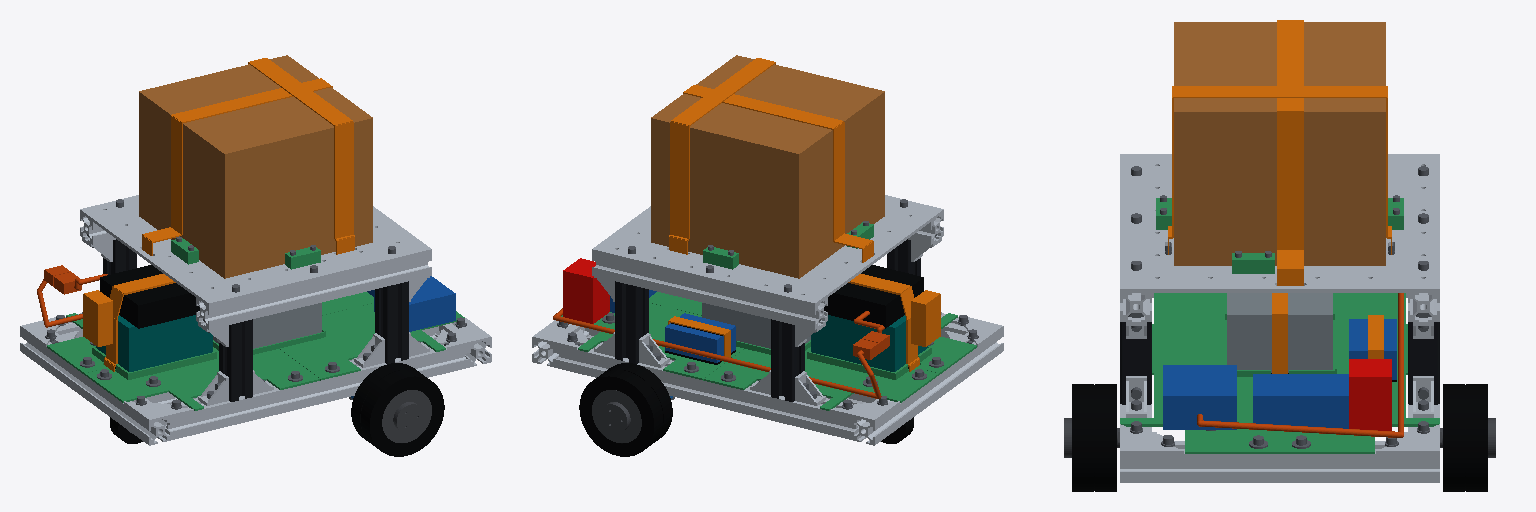
URDF robot description (amr_d62_payload_10kg):
<?xml version='1.0' encoding='utf-8'?>
<robot name="amr_d62_payload_10kg">
  <!--Generated from D6.2. SI units; +X forward, +Y left, +Z up. Inertias are estimates.-->
  <material name="aluminum">
    <color rgba="0.72 0.75 0.79 1" />
  </material>
  <material name="steel">
    <color rgba="0.38 0.4 0.43 1" />
  </material>
  <material name="pla">
    <color rgba="0.22 0.61 0.38 1" />
  </material>
  <material name="posts">
    <color rgba="0.12 0.13 0.15 1" />
  </material>
  <material name="mounts">
    <color rgba="0.15 0.43 0.69 1" />
  </material>
  <material name="motor">
    <color rgba="0.3 0.31 0.33 1" />
  </material>
  <material name="rubber">
    <color rgba="0.055 0.06 0.065 1" />
  </material>
  <material name="battery">
    <color rgba="0.02 0.4 0.4 1" />
  </material>
  <material name="computer">
    <color rgba="0.5 0.54 0.57 1" />
  </material>
  <material name="electronics">
    <color rgba="0.12 0.37 0.67 1" />
  </material>
  <material name="estop">
    <color rgba="0.85 0.08 0.06 1" />
  </material>
  <material name="belts">
    <color rgba="0.88 0.47 0.07 1" />
  </material>
  <material name="wires">
    <color rgba="0.76 0.3 0.08 1" />
  </material>
  <material name="payload">
    <color rgba="0.66 0.44 0.23 1" />
  </material>
  <link name="left_wheel_link">
    <inertial>
      <origin xyz="2.68715937167e-07 0.000842844210193 -1.43130870062e-06" rpy="0 0 0" />
      <mass value="0.45" />
      <inertia ixx="0.000337824360516" ixy="2.57511255333e-09" ixz="-2.83491628371e-11" iyy="0.000517319399072" iyz="-1.83797301139e-08" izz="0.000337817873043" />
    </inertial>
    <visual name="left_wheel_link_motor">
      <geometry>
        <mesh filename="meshes/left_wheel_link_motor.stl" scale="1 1 1" />
      </geometry>
      <material name="motor" />
    </visual>
    <visual name="left_wheel_link_rubber">
      <geometry>
        <mesh filename="meshes/left_wheel_link_rubber.stl" scale="1 1 1" />
      </geometry>
      <material name="rubber" />
    </visual>
    <collision name="left_wheel_link_rolling_contact">
      <origin xyz="0 0 0" rpy="1.57079632679 0 0" />
      <geometry>
        <cylinder radius="0.05035" length="0.043" />
      </geometry>
    </collision>
  </link>
  <link name="base_link">
    <inertial>
      <origin xyz="-0.0933207799947 -0.000816153615845 0.0816662768442" rpy="0 0 0" />
      <mass value="9.11550857337" />
      <inertia ixx="0.124737822182" ixy="0.00168102371021" ixz="0.00519272518667" iyy="0.180569377383" iyz="0.000143756324252" izz="0.228635662641" />
    </inertial>
    <visual name="base_link_motor">
      <geometry>
        <mesh filename="meshes/base_link_motor.stl" scale="1 1 1" />
      </geometry>
      <material name="motor" />
    </visual>
    <visual name="base_link_steel">
      <geometry>
        <mesh filename="meshes/base_link_steel.stl" scale="1 1 1" />
      </geometry>
      <material name="steel" />
    </visual>
    <visual name="base_link_aluminum">
      <geometry>
        <mesh filename="meshes/base_link_aluminum.stl" scale="1 1 1" />
      </geometry>
      <material name="aluminum" />
    </visual>
    <visual name="base_link_mounts">
      <geometry>
        <mesh filename="meshes/base_link_mounts.stl" scale="1 1 1" />
      </geometry>
      <material name="mounts" />
    </visual>
    <visual name="base_link_pla">
      <geometry>
        <mesh filename="meshes/base_link_pla.stl" scale="1 1 1" />
      </geometry>
      <material name="pla" />
    </visual>
    <visual name="base_link_posts">
      <geometry>
        <mesh filename="meshes/base_link_posts.stl" scale="1 1 1" />
      </geometry>
      <material name="posts" />
    </visual>
    <visual name="base_link_electronics">
      <geometry>
        <mesh filename="meshes/base_link_electronics.stl" scale="1 1 1" />
      </geometry>
      <material name="electronics" />
    </visual>
    <visual name="base_link_estop">
      <geometry>
        <mesh filename="meshes/base_link_estop.stl" scale="1 1 1" />
      </geometry>
      <material name="estop" />
    </visual>
    <visual name="base_link_computer">
      <geometry>
        <mesh filename="meshes/base_link_computer.stl" scale="1 1 1" />
      </geometry>
      <material name="computer" />
    </visual>
    <visual name="base_link_battery">
      <geometry>
        <mesh filename="meshes/base_link_battery.stl" scale="1 1 1" />
      </geometry>
      <material name="battery" />
    </visual>
    <visual name="base_link_rubber">
      <geometry>
        <mesh filename="meshes/base_link_rubber.stl" scale="1 1 1" />
      </geometry>
      <material name="rubber" />
    </visual>
    <visual name="base_link_belts">
      <geometry>
        <mesh filename="meshes/base_link_belts.stl" scale="1 1 1" />
      </geometry>
      <material name="belts" />
    </visual>
    <visual name="base_link_wires">
      <geometry>
        <mesh filename="meshes/base_link_wires.stl" scale="1 1 1" />
      </geometry>
      <material name="wires" />
    </visual>
    <visual name="base_link_belts_loaded">
      <geometry>
        <mesh filename="meshes/base_link_belts_loaded.stl" scale="1 1 1" />
      </geometry>
      <material name="belts" />
    </visual>
    <collision name="base_link_Rail400_1">
      <origin xyz="-0.09 -0.135 0.03365" rpy="0 0 0" />
      <geometry>
        <box size="0.4 0.03 0.03" />
      </geometry>
    </collision>
    <collision name="base_link_Rail400_2">
      <origin xyz="-0.09 -0.065 0.03365" rpy="0 0 0" />
      <geometry>
        <box size="0.4 0.03 0.03" />
      </geometry>
    </collision>
    <collision name="base_link_Rail400_3">
      <origin xyz="-0.09 0.065 0.03365" rpy="0 0 0" />
      <geometry>
        <box size="0.4 0.03 0.03" />
      </geometry>
    </collision>
    <collision name="base_link_Rail400_4">
      <origin xyz="-0.09 0.135 0.03365" rpy="0 0 0" />
      <geometry>
        <box size="0.4 0.03 0.03" />
      </geometry>
    </collision>
    <collision name="base_link_Cross300_1">
      <origin xyz="-0.305 0 0.03365" rpy="0 0 0" />
      <geometry>
        <box size="0.03 0.3 0.03" />
      </geometry>
    </collision>
    <collision name="base_link_Cross300_2">
      <origin xyz="0.125 0 0.03365" rpy="0 0 0" />
      <geometry>
        <box size="0.03 0.3 0.03" />
      </geometry>
    </collision>
    <collision name="base_link_CustomMotorMountL">
      <origin xyz="0 0.135 0.00165" rpy="0 0 0" />
      <geometry>
        <box size="0.09 0.03 0.034" />
      </geometry>
    </collision>
    <collision name="base_link_CustomMotorMountR">
      <origin xyz="0 -0.135 0.00165" rpy="0 0 0" />
      <geometry>
        <box size="0.09 0.03 0.034" />
      </geometry>
    </collision>
    <collision name="base_link_CasterAdapter">
      <origin xyz="-0.24 0 0.01665" rpy="0 0 0" />
      <geometry>
        <box size="0.08 0.17 0.004" />
      </geometry>
    </collision>
    <collision name="base_link_CasterTop">
      <origin xyz="-0.24 0 0.0134" rpy="0 0 0" />
      <geometry>
        <box size="0.059 0.047 0.0025" />
      </geometry>
    </collision>
    <collision name="base_link_Reserved_Protection">
      <origin xyz="0.08 -0.075 0.07915" rpy="0 0 0" />
      <geometry>
        <box size="0.07 0.07 0.035" />
      </geometry>
    </collision>
    <collision name="base_link_Reserved_ClampAndPower">
      <origin xyz="0.09 0.02 0.07915" rpy="0 0 0" />
      <geometry>
        <box size="0.05 0.09 0.035" />
      </geometry>
    </collision>
    <collision name="base_link_Reserved_EmergencyStop">
      <origin xyz="0.105 0.085 0.09165" rpy="0 0 0" />
      <geometry>
        <box size="0.04 0.04 0.06" />
      </geometry>
    </collision>
    <collision name="base_link_Reserved_SupervisorRS485">
      <origin xyz="-0.05 0.0875 0.06865" rpy="0 0 0" />
      <geometry>
        <box size="0.07 0.045 0.03" />
      </geometry>
    </collision>
    <collision name="base_link_Reserved_Computer">
      <origin xyz="-0.09 0 0.08365" rpy="0 0 0" />
      <geometry>
        <box size="0.12 0.1 0.06" />
      </geometry>
    </collision>
    <collision name="base_link_AluminumDeckD3">
      <origin xyz="-0.09 0 0.18065" rpy="0 0 0" />
      <geometry>
        <box size="0.3 0.3 0.004" />
      </geometry>
    </collision>
    <collision name="base_link_PrintedStopXN">
      <origin xyz="-0.1995 -0.025 0.19015" rpy="0 0 0" />
      <geometry>
        <box size="0.015 0.04 0.015" />
      </geometry>
    </collision>
    <collision name="base_link_PrintedStopXP">
      <origin xyz="0.0195 -0.025 0.19015" rpy="0 0 0" />
      <geometry>
        <box size="0.015 0.04 0.015" />
      </geometry>
    </collision>
    <collision name="base_link_PrintedStopYN">
      <origin xyz="-0.09 -0.1095 0.19015" rpy="0 0 0" />
      <geometry>
        <box size="0.04 0.015 0.015" />
      </geometry>
    </collision>
    <collision name="base_link_PrintedStopYP">
      <origin xyz="-0.09 0.1095 0.19015" rpy="0 0 0" />
      <geometry>
        <box size="0.04 0.015 0.015" />
      </geometry>
    </collision>
    <collision name="base_link_Upright3030_0">
      <origin xyz="-0.195 -0.135 0.09865" rpy="0 0 0" />
      <geometry>
        <box size="0.03 0.03 0.1" />
      </geometry>
    </collision>
    <collision name="base_link_Upright3030_1">
      <origin xyz="-0.195 0.135 0.09865" rpy="0 0 0" />
      <geometry>
        <box size="0.03 0.03 0.1" />
      </geometry>
    </collision>
    <collision name="base_link_Upright3030_2">
      <origin xyz="0.015 -0.135 0.09865" rpy="0 0 0" />
      <geometry>
        <box size="0.03 0.03 0.1" />
      </geometry>
    </collision>
    <collision name="base_link_Upright3030_3">
      <origin xyz="0.015 0.135 0.09865" rpy="0 0 0" />
      <geometry>
        <box size="0.03 0.03 0.1" />
      </geometry>
    </collision>
    <collision name="base_link_UpperRail3030_0">
      <origin xyz="-0.09 -0.135 0.16365" rpy="0 0 0" />
      <geometry>
        <box size="0.3 0.03 0.03" />
      </geometry>
    </collision>
    <collision name="base_link_UpperRail3030_1">
      <origin xyz="-0.09 0.135 0.16365" rpy="0 0 0" />
      <geometry>
        <box size="0.3 0.03 0.03" />
      </geometry>
    </collision>
    <collision name="base_link_seam_beam_0">
      <origin xyz="-0.09 0 0.0449" rpy="0 0 0" />
      <geometry>
        <box size="0.064 0.1 0.0025" />
      </geometry>
    </collision>
    <collision name="base_link_seam_beam_1">
      <origin xyz="-0.09 -0.02925 0.0474" rpy="0 0 0" />
      <geometry>
        <box size="0.064 0.0415 0.0025" />
      </geometry>
    </collision>
    <collision name="base_link_seam_beam_2">
      <origin xyz="-0.09 0.02925 0.0474" rpy="0 0 0" />
      <geometry>
        <box size="0.064 0.0415 0.0025" />
      </geometry>
    </collision>
    <collision name="base_link_seam_beam_3">
      <origin xyz="-0.1204 0 0.03615" rpy="0 0 0" />
      <geometry>
        <box size="0.0032 0.1 0.015" />
      </geometry>
    </collision>
    <collision name="base_link_seam_beam_4">
      <origin xyz="-0.0596 0 0.03615" rpy="0 0 0" />
      <geometry>
        <box size="0.0032 0.1 0.015" />
      </geometry>
    </collision>
    <collision name="base_link_seam_beam_5">
      <origin xyz="-0.09 -0.0484 0.03365" rpy="0 0 0" />
      <geometry>
        <box size="0.064 0.0032 0.02" />
      </geometry>
    </collision>
    <collision name="base_link_seam_beam_6">
      <origin xyz="-0.09 0.0484 0.03365" rpy="0 0 0" />
      <geometry>
        <box size="0.064 0.0032 0.02" />
      </geometry>
    </collision>
    <collision name="base_link_FloorPLA_0_0">
      <origin xyz="-0.2051 -0.0751 0.04985" rpy="0 0 0" />
      <geometry>
        <box size="0.2298 0.1498 0.0024" />
      </geometry>
    </collision>
    <collision name="base_link_FloorPLA_0_0_rib">
      <origin xyz="-0.206 -0.0235 0.04115" rpy="0 0 0" />
      <geometry>
        <box size="0.168 0.0174 0.015" />
      </geometry>
    </collision>
    <collision name="base_link_FloorPLA_0_1">
      <origin xyz="-0.2051 0.0751 0.04985" rpy="0 0 0" />
      <geometry>
        <box size="0.2298 0.1498 0.0024" />
      </geometry>
    </collision>
    <collision name="base_link_FloorPLA_0_1_rib">
      <origin xyz="-0.206 0.0235 0.04115" rpy="0 0 0" />
      <geometry>
        <box size="0.168 0.0174 0.015" />
      </geometry>
    </collision>
    <collision name="base_link_FloorPLA_1_0">
      <origin xyz="0.0251 -0.0751 0.04985" rpy="0 0 0" />
      <geometry>
        <box size="0.2298 0.1498 0.0024" />
      </geometry>
    </collision>
    <collision name="base_link_FloorPLA_1_0_rib">
      <origin xyz="0.026 -0.0235 0.04115" rpy="0 0 0" />
      <geometry>
        <box size="0.168 0.0174 0.015" />
      </geometry>
    </collision>
    <collision name="base_link_FloorPLA_1_1">
      <origin xyz="0.0251 0.0751 0.04985" rpy="0 0 0" />
      <geometry>
        <box size="0.2298 0.1498 0.0024" />
      </geometry>
    </collision>
    <collision name="base_link_FloorPLA_1_1_rib">
      <origin xyz="0.026 0.0235 0.04115" rpy="0 0 0" />
      <geometry>
        <box size="0.168 0.0174 0.015" />
      </geometry>
    </collision>
    <collision name="base_link_BatteryBL1860B">
      <origin xyz="-0.2265 0 0.08465" rpy="0 0 0" />
      <geometry>
        <box size="0.113 0.075 0.062" />
      </geometry>
    </collision>
    <collision name="base_link_BatteryAdapter03">
      <origin xyz="-0.2265 0 0.13065" rpy="0 0 0" />
      <geometry>
        <box size="0.095 0.09 0.03" />
      </geometry>
    </collision>
    <collision name="base_link_BatteryBuckleEnvelope">
      <origin xyz="-0.302 0 0.11715" rpy="0 0 0" />
      <geometry>
        <box size="0.02 0.035 0.055" />
      </geometry>
    </collision>
  </link>
  <link name="right_wheel_link">
    <inertial>
      <origin xyz="-2.68715937167e-07 -0.000842844210193 -1.43130870061e-06" rpy="0 0 0" />
      <mass value="0.45" />
      <inertia ixx="0.000337824360516" ixy="2.57511255324e-09" ixz="2.83491629754e-11" iyy="0.000517319399072" iyz="1.83797301136e-08" izz="0.000337817873043" />
    </inertial>
    <visual name="right_wheel_link_motor">
      <geometry>
        <mesh filename="meshes/right_wheel_link_motor.stl" scale="1 1 1" />
      </geometry>
      <material name="motor" />
    </visual>
    <visual name="right_wheel_link_rubber">
      <geometry>
        <mesh filename="meshes/right_wheel_link_rubber.stl" scale="1 1 1" />
      </geometry>
      <material name="rubber" />
    </visual>
    <collision name="right_wheel_link_rolling_contact">
      <origin xyz="0 0 0" rpy="1.57079632679 0 0" />
      <geometry>
        <cylinder radius="0.05035" length="0.043" />
      </geometry>
    </collision>
  </link>
  <link name="caster_swivel_link">
    <inertial>
      <origin xyz="-0.00208368833284 3.45547710101e-19 -0.0060383207606" rpy="0 0 0" />
      <mass value="0.0887160418696" />
      <inertia ixx="2.00832544816e-05" ixy="4.85850705141e-22" ixz="-4.29660604946e-06" iyy="1.90849352283e-05" iyz="-2.53397249247e-22" izz="1.76394659271e-05" />
    </inertial>
    <visual name="caster_swivel_link_steel">
      <geometry>
        <mesh filename="meshes/caster_swivel_link_steel.stl" scale="1 1 1" />
      </geometry>
      <material name="steel" />
    </visual>
    <collision name="caster_swivel_link_swivel_race">
      <origin xyz="0 0 0" rpy="0 0 0" />
      <geometry>
        <cylinder radius="0.019" length="0.009" />
      </geometry>
    </collision>
    <collision name="caster_swivel_link_fork_0">
      <origin xyz="-0.003 -0.0125 -0.01875" rpy="0 0 0" />
      <geometry>
        <box size="0.036 0.003 0.0285" />
      </geometry>
    </collision>
    <collision name="caster_swivel_link_fork_1">
      <origin xyz="-0.003 0.0125 -0.01875" rpy="0 0 0" />
      <geometry>
        <box size="0.036 0.003 0.0285" />
      </geometry>
    </collision>
    <collision name="caster_swivel_link_fork_2">
      <origin xyz="-0.016 0 -0.033" rpy="0 0 0" />
      <geometry>
        <box size="0.006 0.032 0.006" />
      </geometry>
    </collision>
  </link>
  <link name="caster_wheel_link">
    <inertial>
      <origin xyz="2.84217094304e-17 2.29472925463e-19 0" rpy="0 0 0" />
      <mass value="0.035507350075" />
      <inertia ixx="6.57068391835e-06" ixy="2.3584551378e-23" ixz="-1.75899594661e-20" iyy="1.0774211165e-05" iyz="-2.27653595497e-22" izz="6.57068391835e-06" />
    </inertial>
    <visual name="caster_wheel_link_rubber">
      <geometry>
        <mesh filename="meshes/caster_wheel_link_rubber.stl" scale="1 1 1" />
      </geometry>
      <material name="rubber" />
    </visual>
    <visual name="caster_wheel_link_steel">
      <geometry>
        <mesh filename="meshes/caster_wheel_link_steel.stl" scale="1 1 1" />
      </geometry>
      <material name="steel" />
    </visual>
    <collision name="caster_wheel_link_rolling_contact">
      <origin xyz="0 0 0" rpy="1.57079632679 0 0" />
      <geometry>
        <cylinder radius="0.025" length="0.02" />
      </geometry>
    </collision>
  </link>
  <link name="payload_link">
    <inertial>
      <origin xyz="-5.30457172566e-19 -7.01068832617e-19 5.68434188608e-17" rpy="0 0 0" />
      <mass value="10" />
      <inertia ixx="0.0546666666667" ixy="-5.62054261308e-20" ixz="1.6452128394e-18" iyy="0.0546666666667" iyz="1.71989237667e-18" izz="0.0666666666667" />
    </inertial>
    <visual name="example_cargo">
      <geometry>
        <box size="0.2 0.2 0.16" />
      </geometry>
      <material name="payload" />
    </visual>
    <collision name="payload_link_cargo_box">
      <origin xyz="0 0 0" rpy="0 0 0" />
      <geometry>
        <box size="0.2 0.2 0.16" />
      </geometry>
    </collision>
  </link>
  <joint name="left_wheel_joint" type="continuous">
    <parent link="base_link" />
    <child link="left_wheel_link" />
    <origin xyz="0 0.1745 0" rpy="0 0 0" />
    <axis xyz="0 1 0" />
    <limit effort="0.96" velocity="12.0427718388" />
    <dynamics damping="0" friction="0" />
  </joint>
  <joint name="right_wheel_joint" type="continuous">
    <parent link="base_link" />
    <child link="right_wheel_link" />
    <origin xyz="0 -0.1745 0" rpy="0 0 0" />
    <axis xyz="0 1 0" />
    <limit effort="0.96" velocity="12.0427718388" />
    <dynamics damping="0" friction="0" />
  </joint>
  <joint name="caster_swivel_joint" type="continuous">
    <parent link="base_link" />
    <child link="caster_swivel_link" />
    <origin xyz="-0.24 0 0.00765" rpy="0 0 0" />
    <axis xyz="0 0 1" />
    <limit effort="0" velocity="30" />
    <dynamics damping="0" friction="0" />
  </joint>
  <joint name="caster_wheel_joint" type="continuous">
    <parent link="caster_swivel_link" />
    <child link="caster_wheel_link" />
    <origin xyz="-0.016 0 -0.033" rpy="0 0 0" />
    <axis xyz="0 1 0" />
    <limit effort="0" velocity="30" />
    <dynamics damping="0" friction="0" />
  </joint>
  <joint name="payload_fixed_joint" type="fixed">
    <parent link="base_link" />
    <child link="payload_link" />
    <origin xyz="-0.09 0 0.26265" rpy="0 0 0" />
  </joint>
</robot>

--- What the picture shows (computed from the rendered views, not written in the file) ---
The picture shows the robot from 3 angles, left to right: view 1: azimuth 30°, elevation 25°; view 2: azimuth 150°, elevation 25°; view 3: azimuth 270°, elevation 25°; orthographic projection.
Robot: amr_d62_payload_10kg — 6 links, 5 joints (4 continuous, 1 fixed); root link base_link; default pose: all joints at 0.
Links seen in each view (by area): view 1: base_link, payload_link, right_wheel_link; view 2: base_link, payload_link, left_wheel_link; view 3: base_link, payload_link, left_wheel_link, right_wheel_link.
Boxes of the visible links, x1,y1,x2,y2 form: base_link: (20,58,491,445); payload_link: (139,55,372,278); right_wheel_link: (351,363,444,456); base_link: (532,58,1003,445); payload_link: (651,55,884,278); left_wheel_link: (579,363,672,456); base_link: (1117,20,1442,482); payload_link: (1174,22,1385,265); left_wheel_link: (1443,384,1495,491); right_wheel_link: (1064,384,1116,491).
Size in the robot's own frame: 0.46 by 0.4066 by 0.396 metres.
21 mesh visuals loaded from 21 distinct referenced files (21 binary STL).
